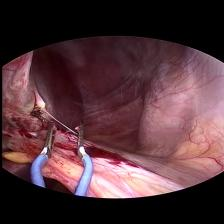Bipolar: (26, 120, 92, 196)
